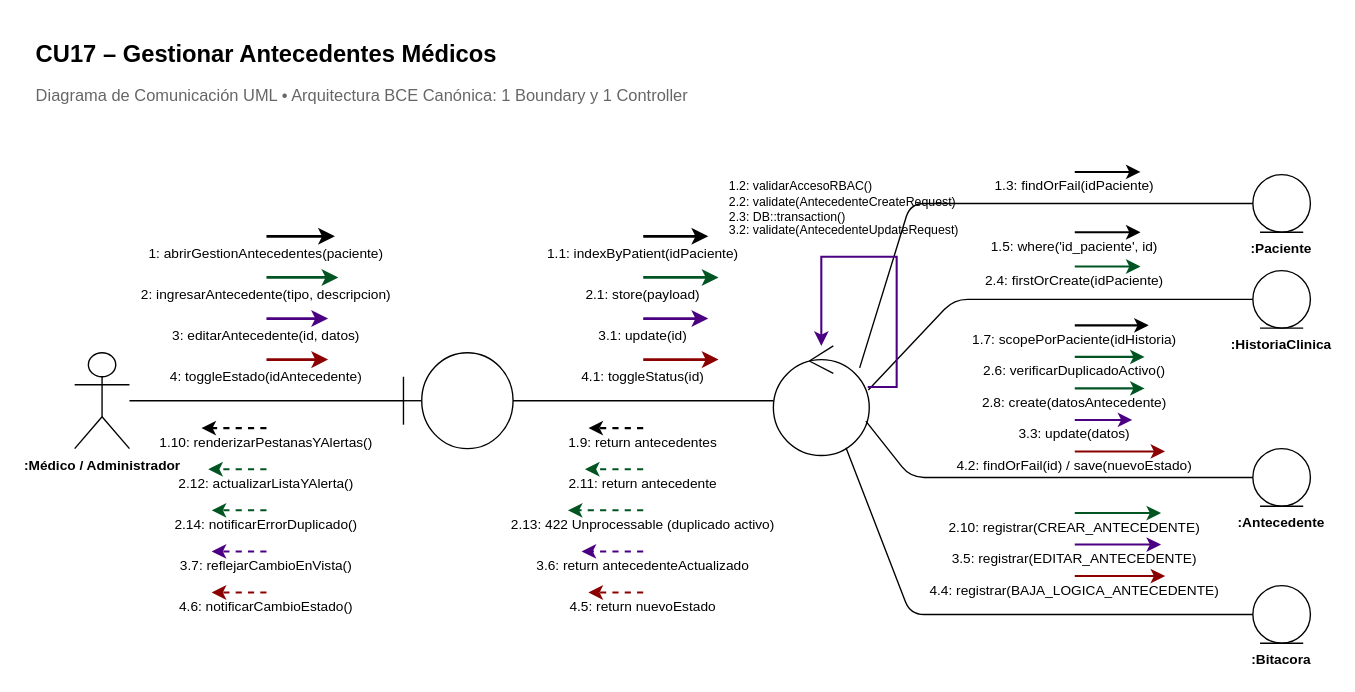
The diagram is 1355 pixels wide and 692 high, and some of its shapes have lost their labels. The shapes that lost their labels are listed below. From the top down, each one's box as (x1, y1, x2, y2) in pixels, then its label:
(402, 351, 513, 449): :AntecedentesPatientModal
(772, 345, 869, 456): :AntecedentesController
